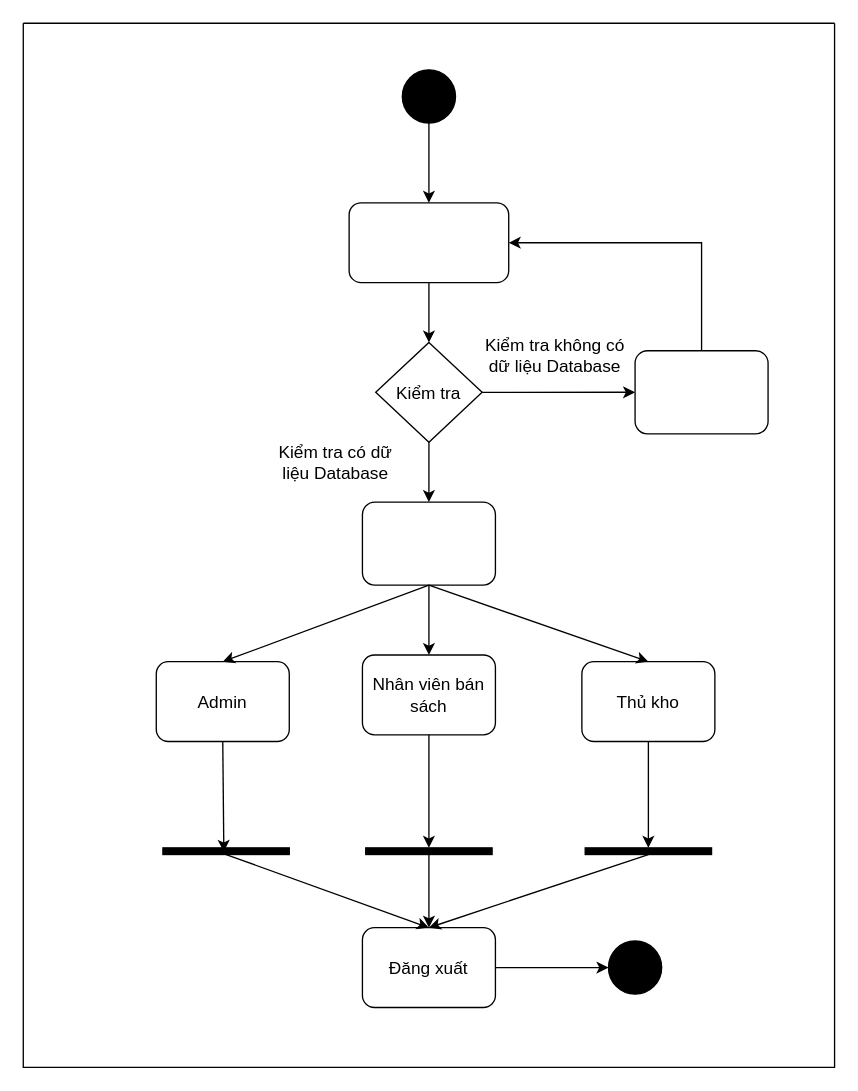
Some shapes in this 858 by 1091 pixel diagram are drawn without their labels. Each missing label, with the centre of its shape:
"Đăng nhập" goes at (428,242).
"Đăng nhập thành công" goes at (428,543).
"Đăng nhập thất bại" goes at (701,391).
